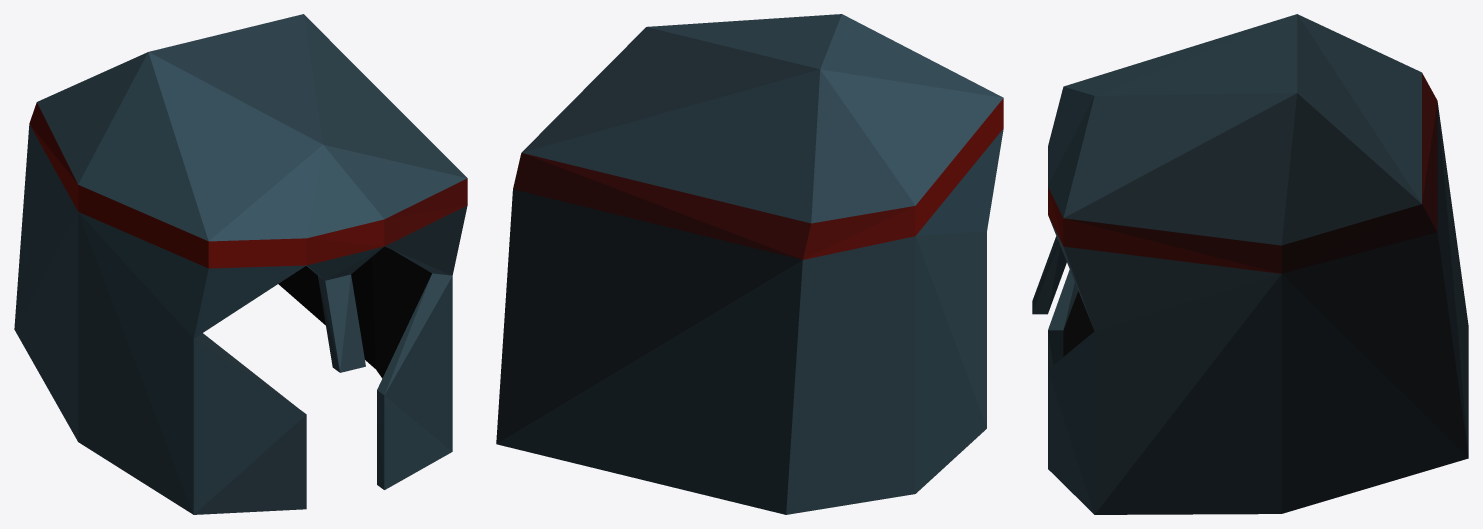
File: runite-med-helm.obj
3 renders of one model, left to right at view 1: azimuth 30°, elevation 25°; view 2: azimuth 150°, elevation 25°; view 3: azimuth 270°, elevation 25°, orthographic. The views are drawn at different scales.
Parts seen in each view (by area): view 1: Item Rune med helm 2026-09-24_18-19-21; view 2: Item Rune med helm 2026-09-24_18-19-21; view 3: Item Rune med helm 2026-09-24_18-19-21.
Boxes of the visible parts, box(x1,y1,x2,y2) form: Item Rune med helm 2026-09-24_18-19-21: box(14, 14, 467, 514); Item Rune med helm 2026-09-24_18-19-21: box(496, 14, 1003, 514); Item Rune med helm 2026-09-24_18-19-21: box(1032, 14, 1468, 514).
Size of the model in its own units: 24 by 28 by 28.
